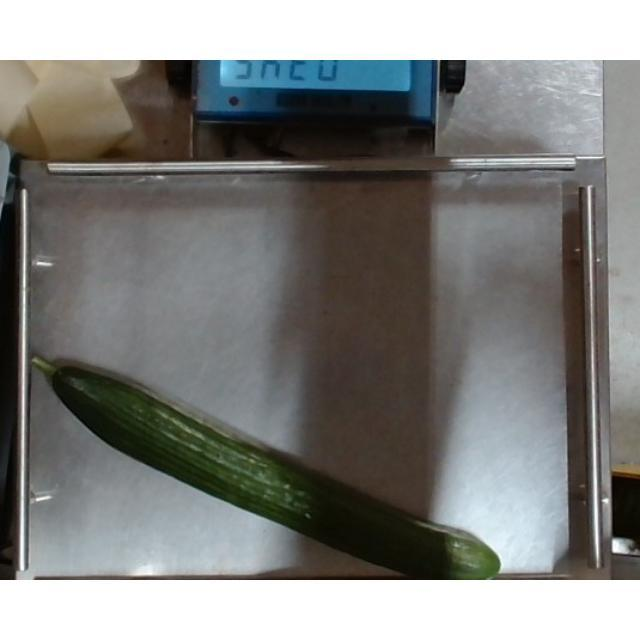cucumber: (26, 352, 502, 580)
